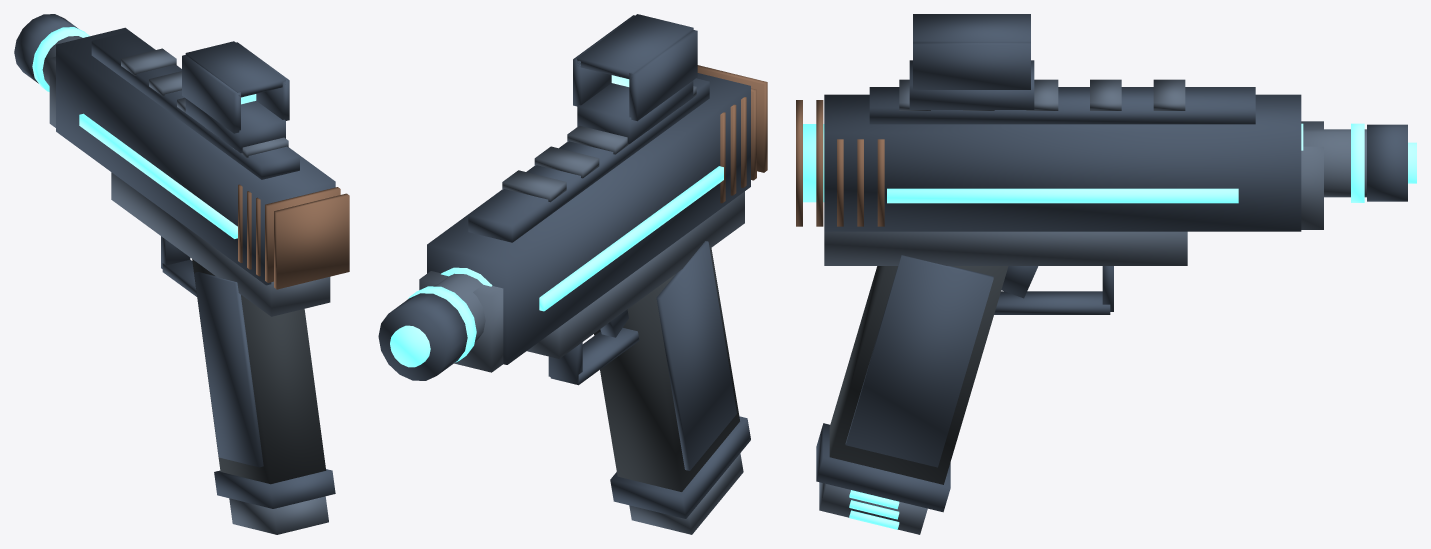
Rendered from nova_gun.glb.
3 views of the same model, side by side, from view 1: azimuth 30°, elevation 25°; view 2: azimuth 150°, elevation 25°; view 3: azimuth 270°, elevation 25° (orthographic). The views are drawn at different scales.
Visible parts, largest first — view 1: Receiver_Main, Grip_Core, Grip_Panel_R, Heat_Fin_5, Receiver_LowerFrame, Rail_Base, Magwell_Flange, Sight_Hood_Top, Energy_Cell_Base, Sight_Hood_R, Conduit_Channel_R, Sight_Mount (+10 smaller); view 2: Receiver_Main, Grip_Core, Grip_Panel_R, Receiver_LowerFrame, Rail_Base, Muzzle_Brake, Magwell_Flange, Sight_Hood_Top, Sight_Hood_R, Conduit_Channel_R, Sight_Mount, Receiver_Nose (+15 smaller); view 3: Receiver_Main, Grip_Panel_L, Receiver_LowerFrame, Rail_Base, Grip_Core, Conduit_Channel_L, Sight_Hood_L, Magwell_Flange, Sight_Hood_Top, Muzzle_Brake, Sight_Mount, Trigger_Guard_Bottom (+11 smaller).
Boxes of the visible parts, x1,y1,x2,y2 form: Receiver_Main: [56, 27, 335, 285]; Grip_Core: [192, 259, 326, 484]; Grip_Panel_R: [194, 272, 263, 467]; Heat_Fin_5: [274, 193, 349, 289]; Receiver_LowerFrame: [111, 172, 330, 316]; Rail_Base: [91, 31, 299, 179]; Magwell_Flange: [214, 469, 335, 508]; Sight_Hood_Top: [185, 41, 285, 97]; Energy_Cell_Base: [229, 496, 328, 534]; Sight_Hood_R: [182, 55, 240, 133]; Conduit_Channel_R: [79, 113, 237, 238]; Sight_Mount: [185, 98, 285, 153]; Receiver_Main: [427, 73, 750, 364]; Grip_Core: [594, 248, 739, 491]; Grip_Panel_R: [656, 241, 736, 470]; Receiver_LowerFrame: [527, 191, 744, 358]; Rail_Base: [468, 78, 709, 242]; Muzzle_Brake: [378, 293, 467, 380]; Magwell_Flange: [610, 416, 750, 518]; Sight_Hood_Top: [577, 14, 693, 79]; Sight_Hood_R: [629, 30, 697, 121]; Conduit_Channel_R: [539, 166, 723, 311]; Sight_Mount: [577, 80, 693, 143]; Receiver_Nose: [419, 271, 503, 372]; Receiver_Main: [824, 94, 1301, 231]; Grip_Panel_L: [845, 255, 993, 467]; Receiver_LowerFrame: [824, 231, 1187, 265]; Rail_Base: [869, 87, 1255, 124]; Grip_Core: [829, 266, 1008, 484]; Conduit_Channel_L: [887, 188, 1238, 203]; Sight_Hood_L: [913, 43, 1030, 89]; Magwell_Flange: [816, 423, 950, 512]; Sight_Hood_Top: [913, 14, 1030, 42]; Muzzle_Brake: [1367, 124, 1407, 201]; Sight_Mount: [909, 60, 1034, 109]; Trigger_Guard_Bottom: [994, 291, 1110, 314].
Bounding box in the file's own units: 0.045 × 0.2397 × 0.2735.
